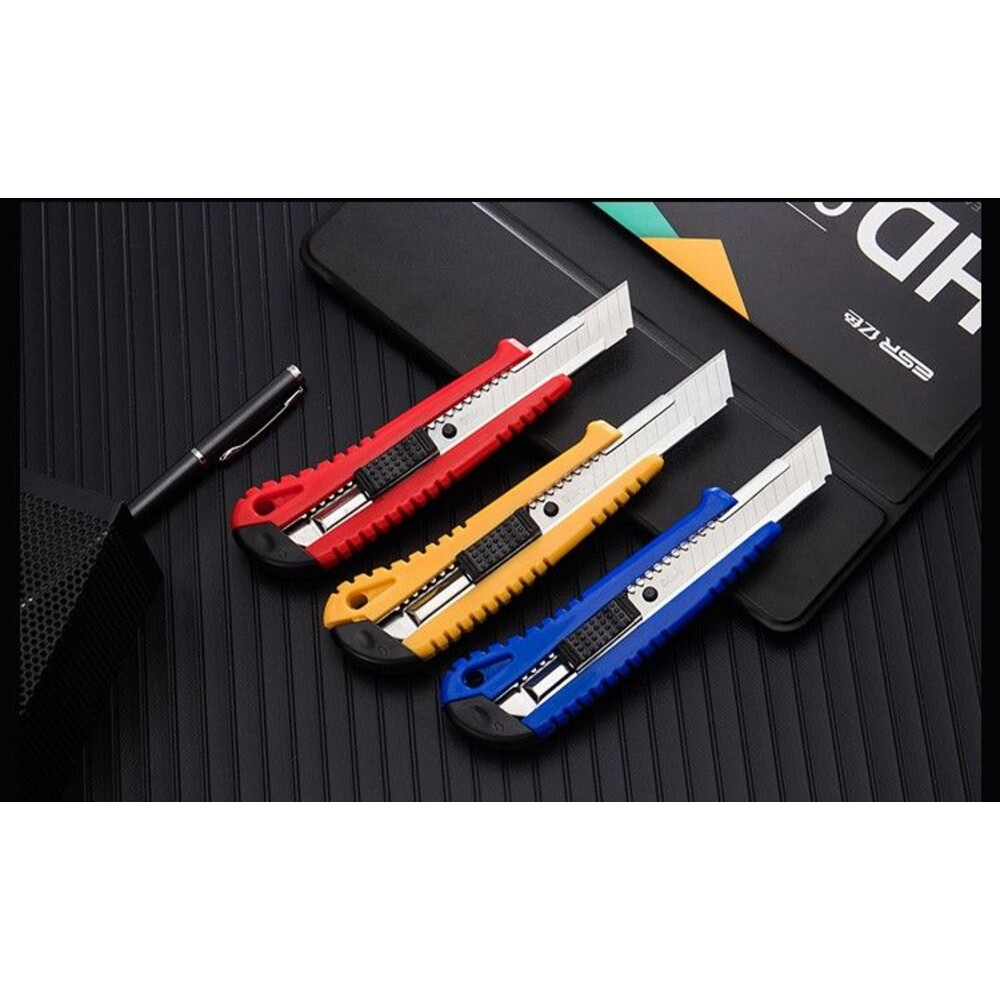cutter: (321, 347, 738, 673), (437, 420, 845, 748), (229, 277, 640, 584)
